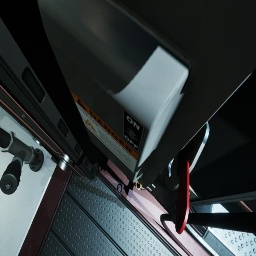SafetySwitchPanel ,: (37, 0, 256, 235)
